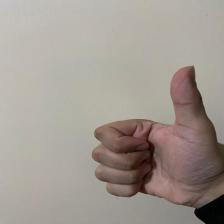five: (92, 66, 219, 200)
